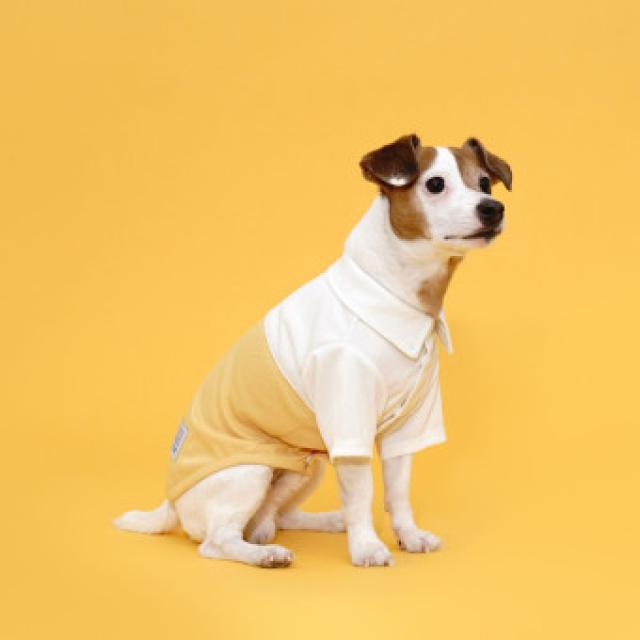cloth: (166, 255, 450, 499)
